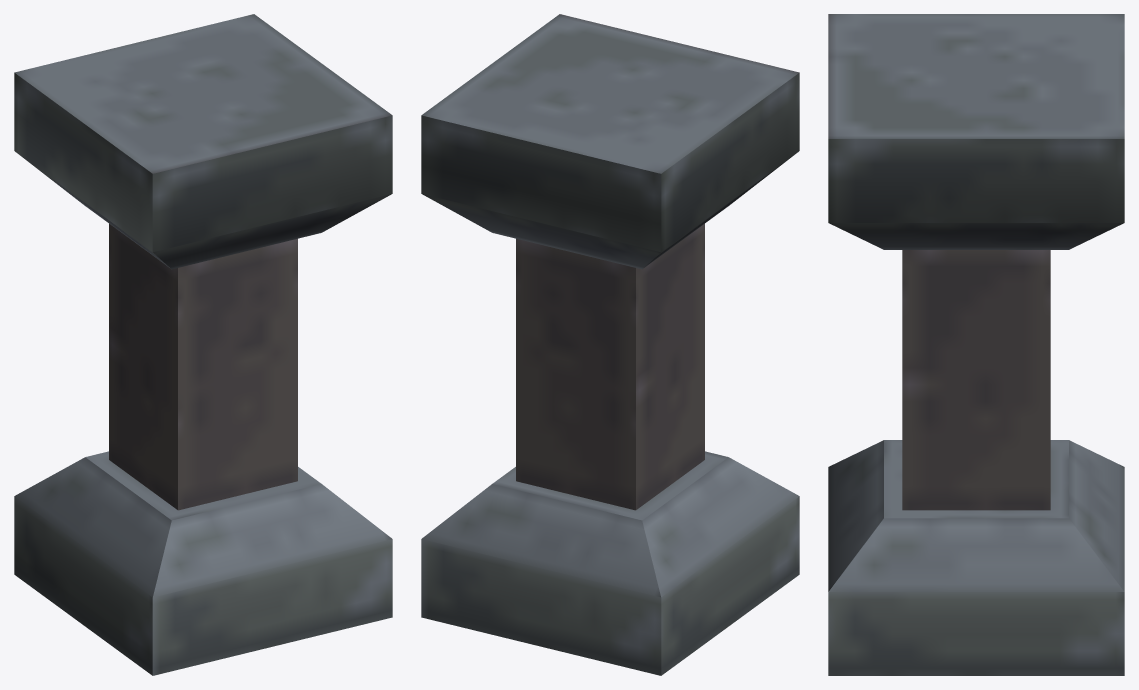
File: pillar_assembly_03_purple.fbx
3 views of the same model, side by side, from view 1: azimuth 30°, elevation 25°; view 2: azimuth 150°, elevation 25°; view 3: azimuth 270°, elevation 25° (orthographic). The views are drawn at different scales.
Parts seen in each view (by area): view 1: pillar_assembly_03_purple; view 2: pillar_assembly_03_purple; view 3: pillar_assembly_03_purple.
Boxes of the visible parts, x1,y1,x2,y2 form: pillar_assembly_03_purple: [14, 14, 392, 675]; pillar_assembly_03_purple: [421, 14, 799, 675]; pillar_assembly_03_purple: [828, 14, 1124, 675].
Size of the model in its own units: 16 by 32 by 16.
